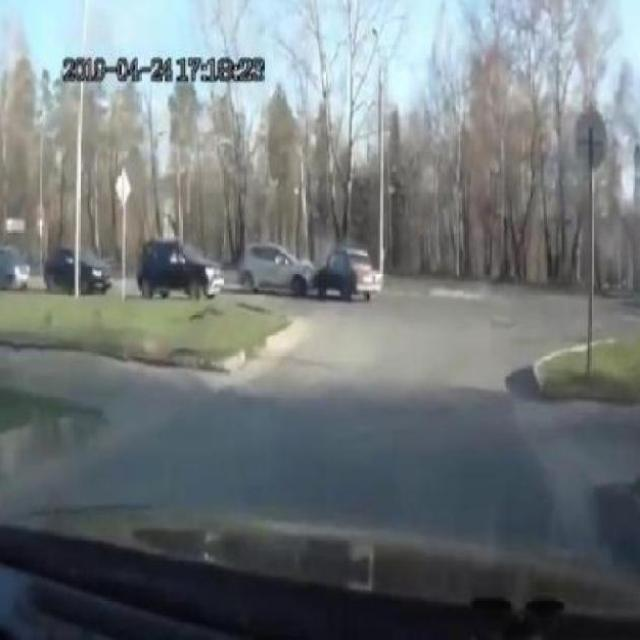accident: (243, 233, 390, 315)
